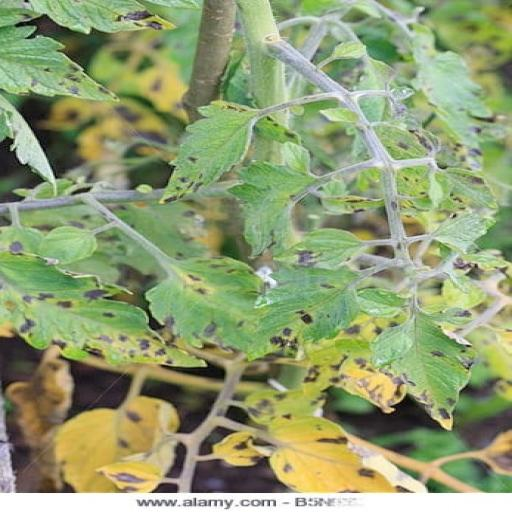disease_tomato: (0, 249, 208, 367), (368, 312, 482, 432), (268, 414, 430, 493), (142, 256, 268, 354), (56, 392, 178, 492), (158, 98, 256, 206), (247, 264, 357, 360), (0, 24, 122, 102), (25, 0, 177, 33)
